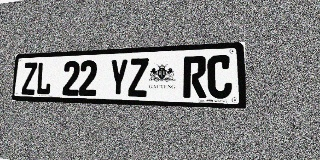2: (79, 60, 97, 96), (62, 61, 80, 96)
C: (207, 55, 232, 99)
L: (36, 62, 52, 95)
R: (183, 56, 206, 98)
Y: (109, 59, 128, 97)
Z: (128, 58, 149, 97), (21, 62, 37, 95)
